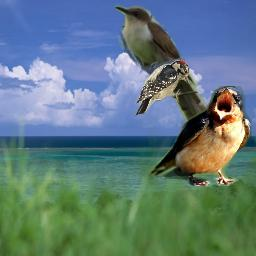Cuckoo: (113, 3, 218, 140)
Swallow: (148, 86, 252, 186)
Woodpecker: (130, 59, 189, 118)
